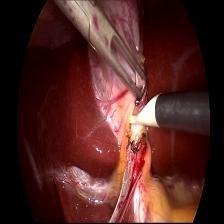Grasper: (54, 2, 148, 100)
Hook: (125, 98, 165, 138)
